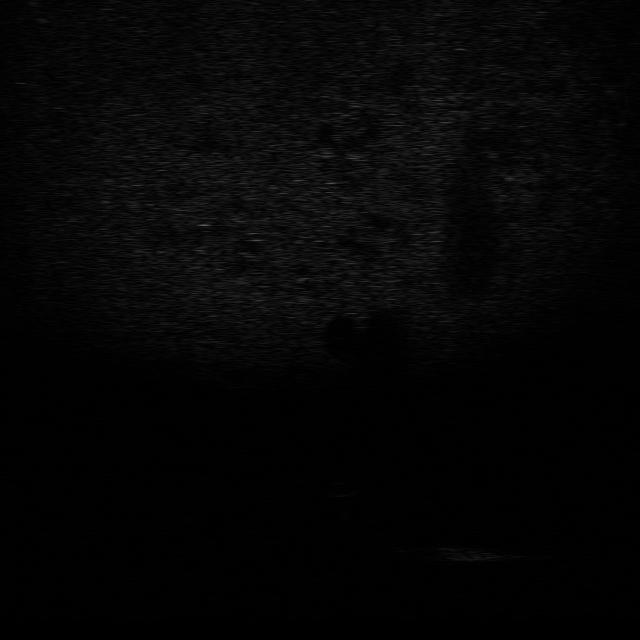ball: (324, 479, 364, 498)
metal bucket: (430, 542, 511, 567)
tyre: (364, 515, 424, 560)
